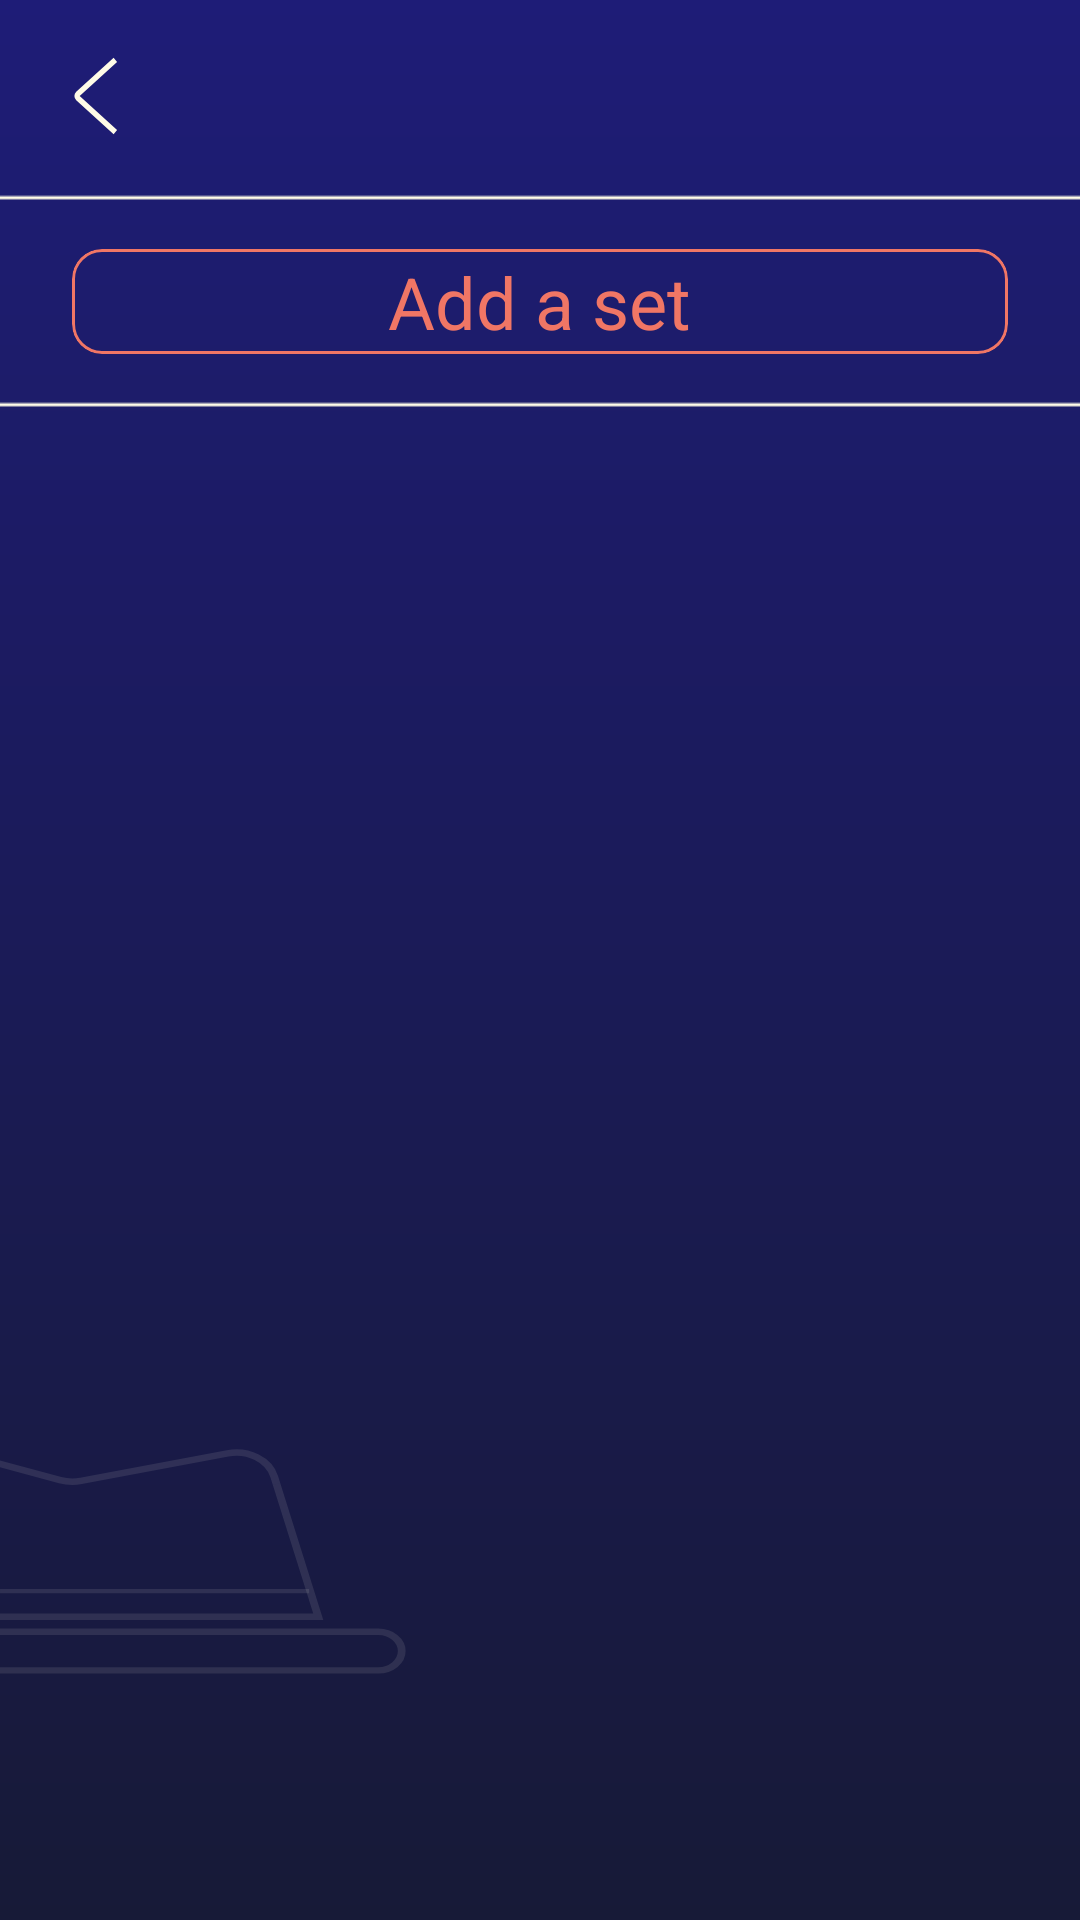

Where to tap for icons on this 1080×1920 app screen, as point (x, y):
back: point (95, 96)
